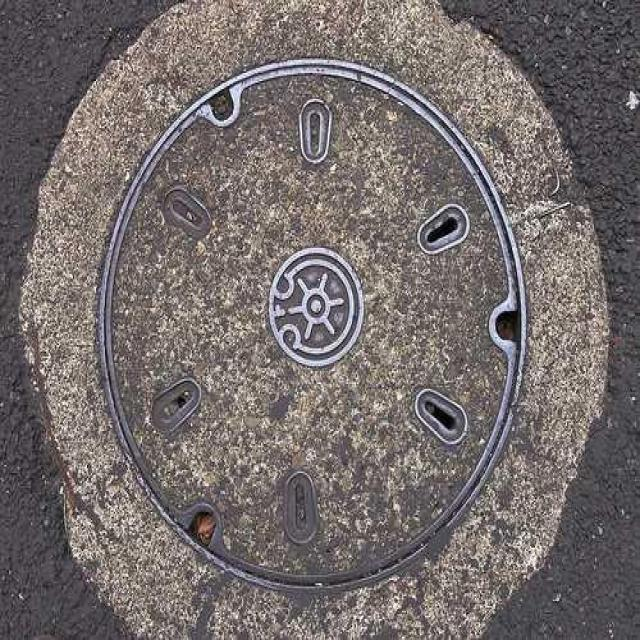manhole: (100, 60, 526, 589)
